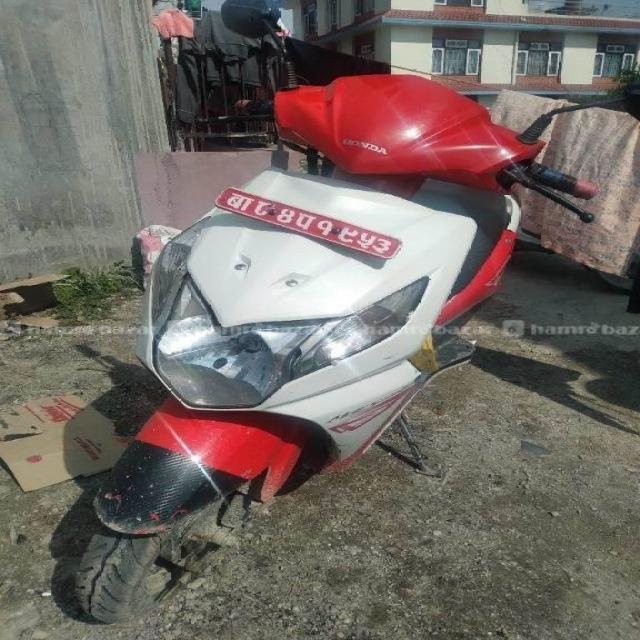License-plate: (215, 184, 394, 264)
